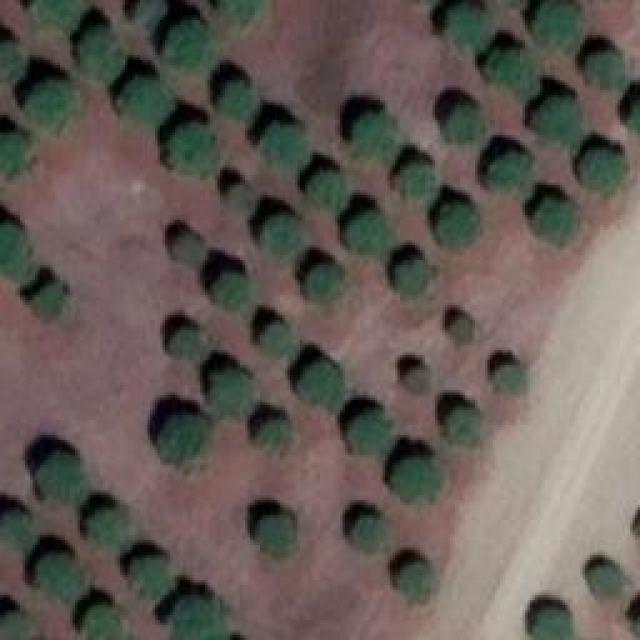Tree: (485, 50, 538, 100), (170, 123, 218, 173), (157, 415, 205, 465), (172, 597, 227, 640), (122, 77, 170, 125), (165, 20, 213, 68), (78, 30, 123, 80), (25, 80, 75, 125), (260, 123, 305, 173), (538, 0, 583, 50), (533, 98, 583, 143), (298, 360, 341, 410), (348, 212, 391, 260), (30, 0, 88, 35), (0, 222, 35, 280), (40, 455, 85, 500), (208, 370, 253, 415), (448, 3, 493, 48), (355, 113, 395, 163), (38, 555, 83, 598), (395, 455, 438, 498), (485, 155, 530, 195), (307, 170, 345, 213), (583, 150, 626, 188), (258, 515, 298, 555), (348, 413, 388, 453), (440, 205, 475, 248), (538, 198, 573, 241), (130, 557, 168, 595), (220, 80, 255, 120), (395, 163, 433, 198), (532, 605, 570, 640), (395, 565, 433, 600), (85, 607, 125, 640), (263, 215, 296, 255), (585, 53, 623, 86), (448, 105, 483, 140), (0, 607, 37, 640), (0, 512, 32, 549), (90, 513, 125, 546), (30, 283, 63, 318), (260, 325, 295, 358), (308, 265, 341, 300), (350, 518, 388, 548), (220, 0, 265, 25), (445, 410, 478, 443), (0, 135, 28, 173), (215, 273, 245, 308), (258, 420, 291, 450), (0, 42, 25, 80), (397, 260, 425, 293), (175, 235, 205, 265), (590, 565, 620, 595), (137, 0, 165, 28), (168, 330, 198, 355), (493, 365, 523, 390), (227, 185, 255, 210), (405, 368, 428, 393), (625, 103, 640, 140), (450, 318, 473, 341)
